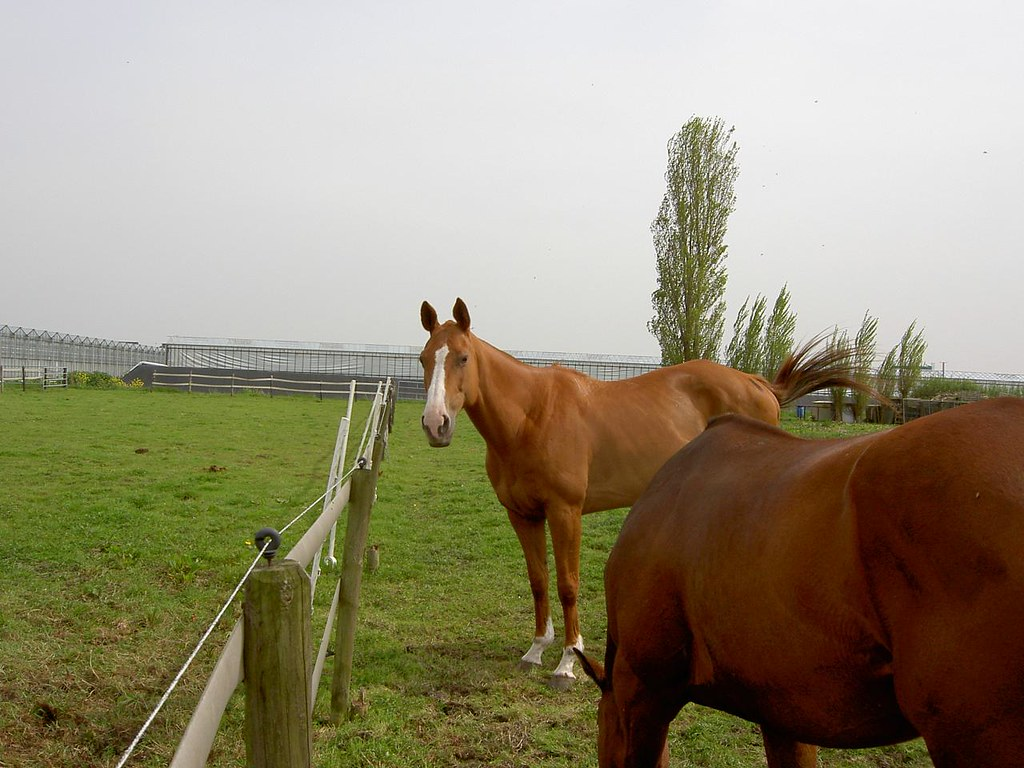horse: (583, 417, 1024, 760), (418, 298, 781, 670)
